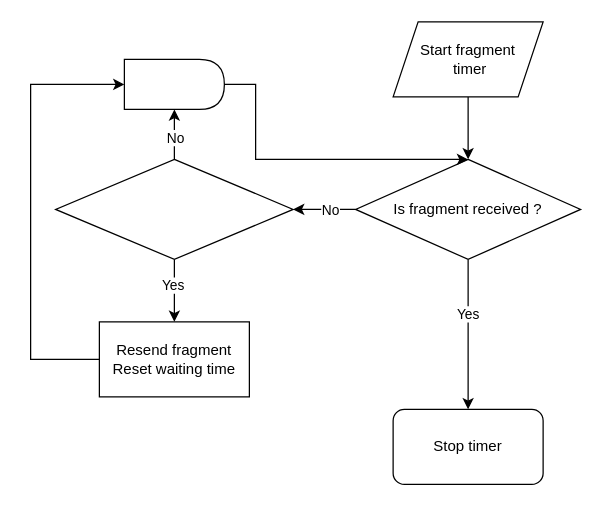
The diagram is 603 pixels wide and 506 high, and some of its shapes have lost their labels. The centre of each missing label's shape, as x and y in pixels:
50 milliseconds: the point at 173,83
Is waiting time more than 3 seconds?: the point at 173,208
